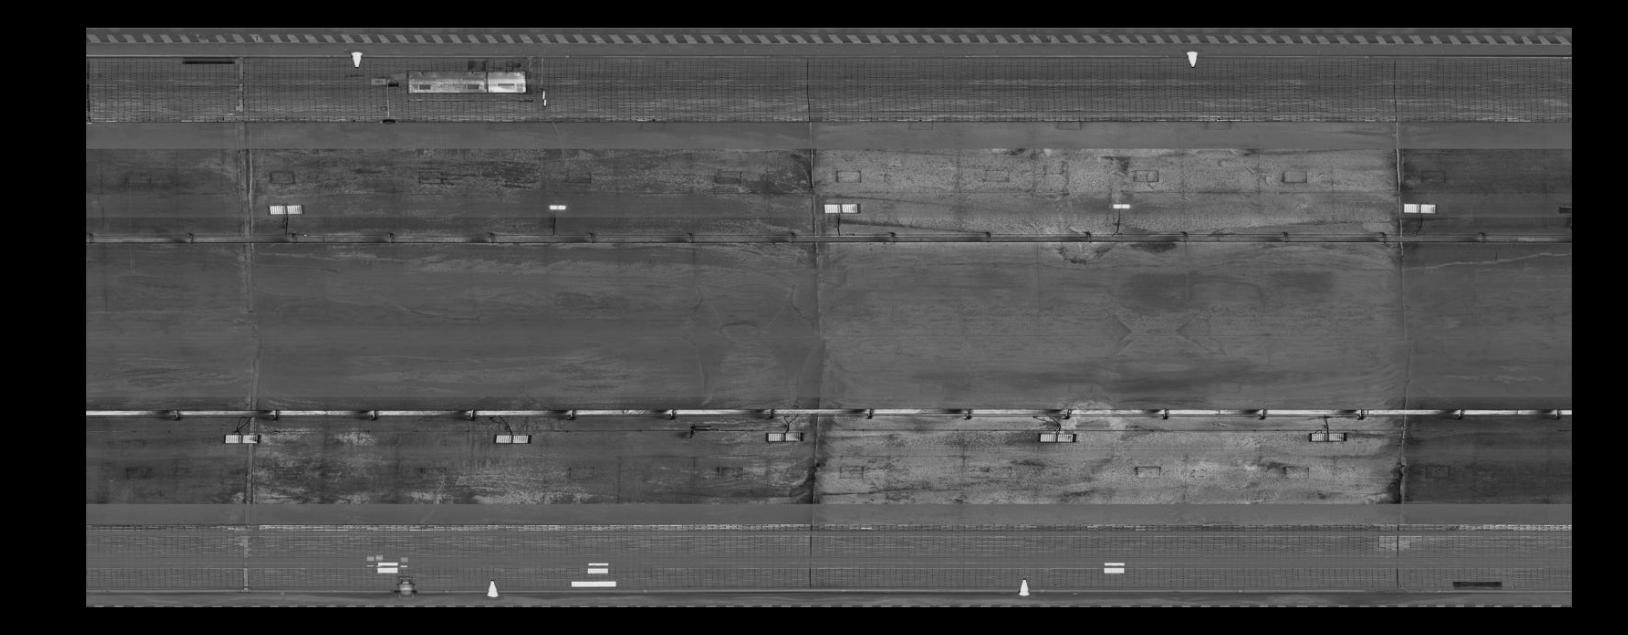light: (489, 431, 536, 448), (1305, 427, 1351, 445), (1036, 430, 1082, 447), (762, 427, 808, 445), (220, 431, 264, 446), (265, 202, 308, 217), (1401, 199, 1442, 214), (820, 200, 861, 215), (542, 202, 571, 212), (1106, 202, 1135, 211)
